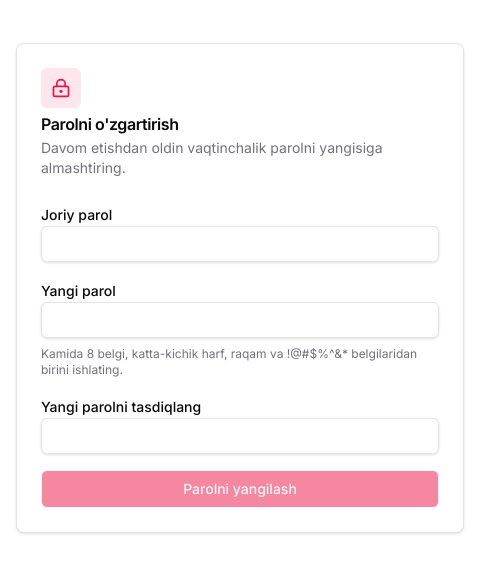
Test: ChangePassword › validates matching strong passwords before making the request
In the password field labelled "Joriy parol": (240, 244) 41,226 -> 439,262, type "Temporary123!"
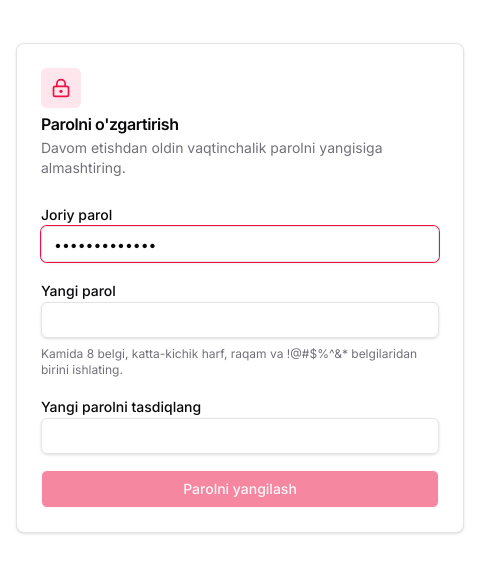
In the password field labelled "Yangi parol": (240, 320) 41,302 -> 439,338, type "Weak"
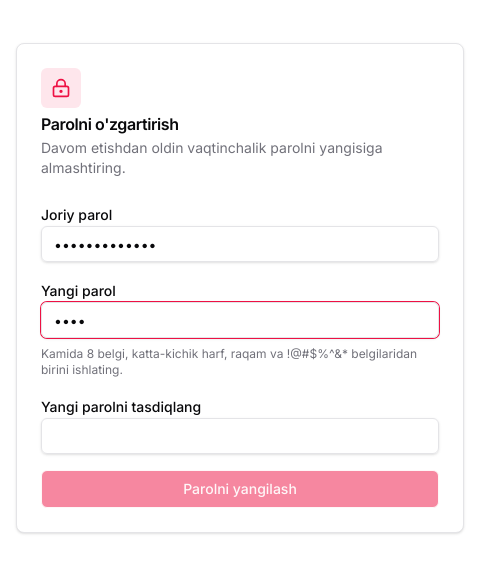
In the password field labelled "Yangi parolni tasdiqlang": (240, 436) 41,418 -> 439,454, type "Weak"
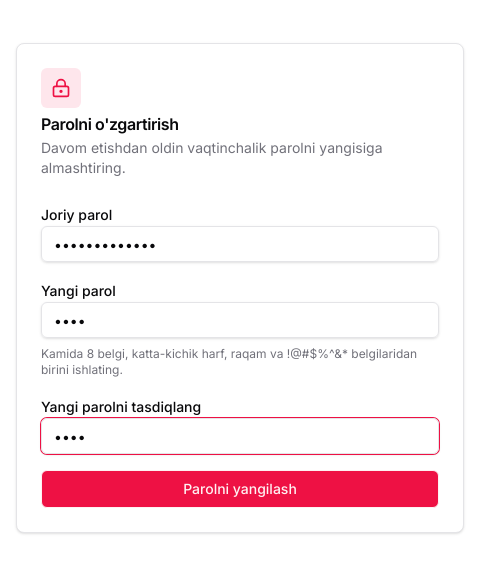
Click the button "Parolni yangilash": (240, 489) 41,470 -> 439,508
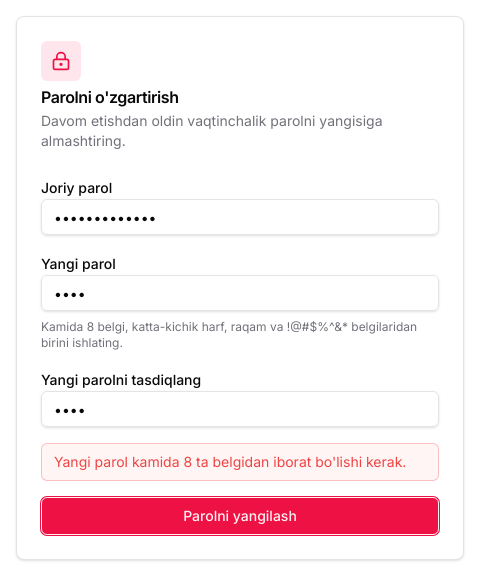
Now the message shows "kamida 8 ta belgidan", box 54,453 -> 406,470
